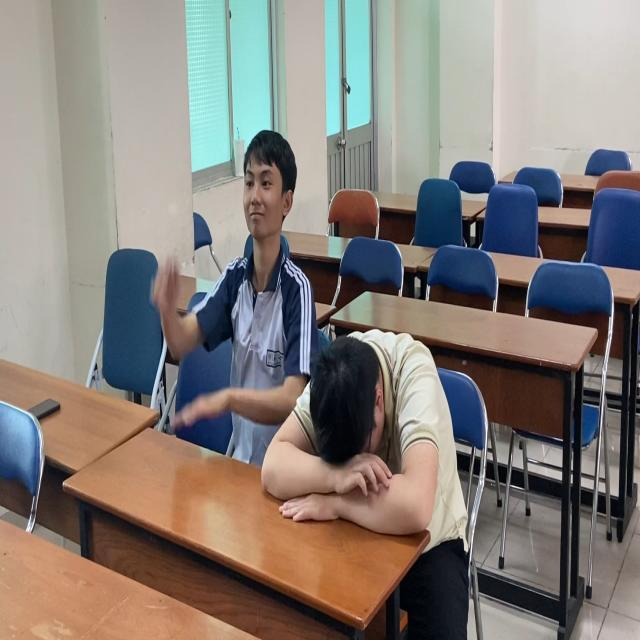sleep: (264, 321, 479, 533)
